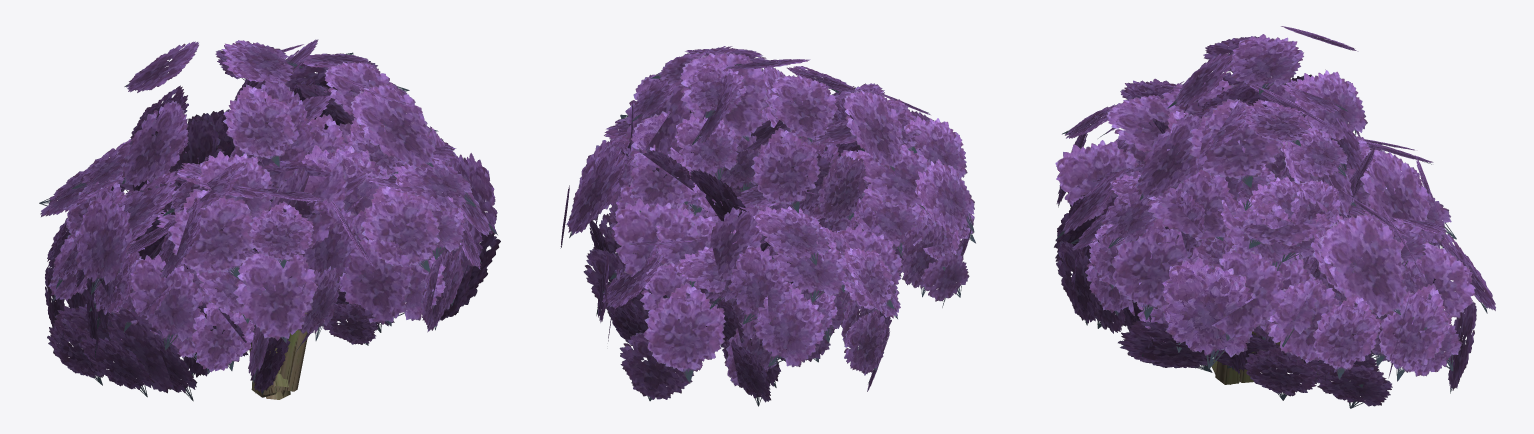
The model's file is purple-bush.glb.
The picture shows the model from 3 angles, left to right: view 1: azimuth 30°, elevation 25°; view 2: azimuth 150°, elevation 25°; view 3: azimuth 270°, elevation 25°; orthographic projection. The views are drawn at different scales.
Visible parts, largest first — view 1: Shrub-purple-bush; view 2: Shrub-purple-bush; view 3: Shrub-purple-bush.
Boxes of the visible parts, x1,y1,x2,y2 form: Shrub-purple-bush: [39, 39, 500, 401]; Shrub-purple-bush: [560, 46, 975, 406]; Shrub-purple-bush: [1054, 26, 1495, 408].
Size of the model in its own units: 3.02 by 2.5 by 3.11.
1 material, 1 textured.
